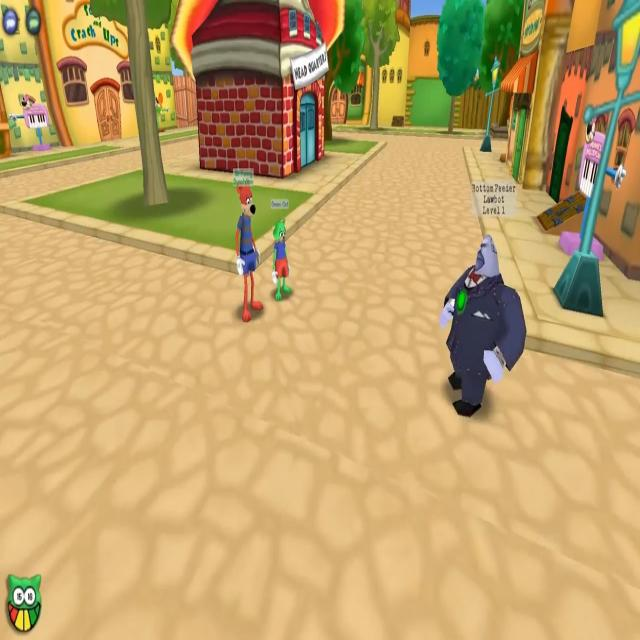bottomfeeder: (440, 179, 527, 419)
